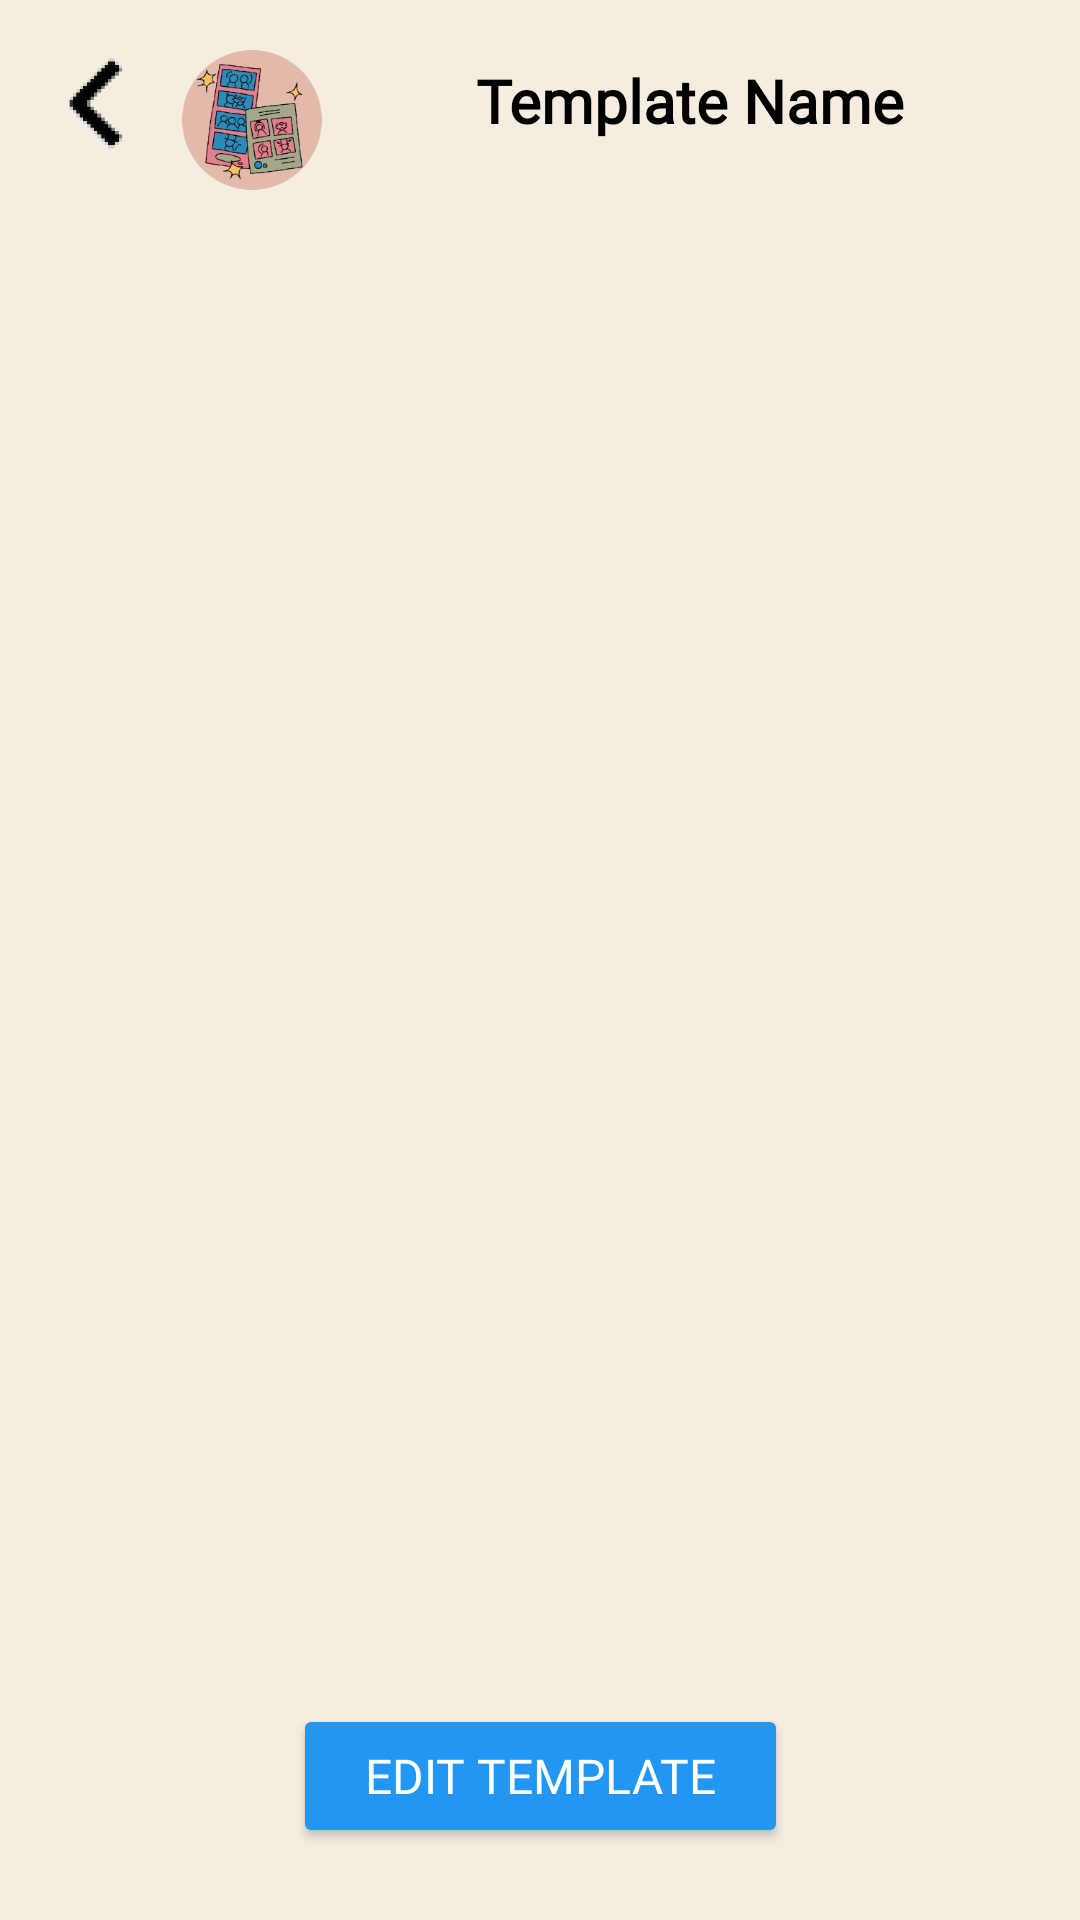

Named icons in this screenshot (1080px x 1920px) and their bounding boxes, (x1, y1, x2, y2):
Decor: (182, 50, 322, 190)
